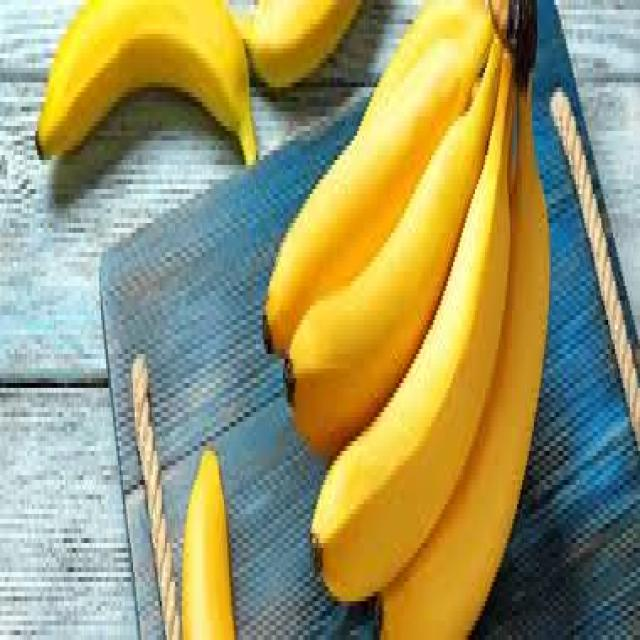Banana: (312, 45, 511, 599), (381, 86, 549, 637), (285, 40, 501, 455), (265, 11, 492, 351), (36, 0, 256, 164), (234, 0, 361, 88)
